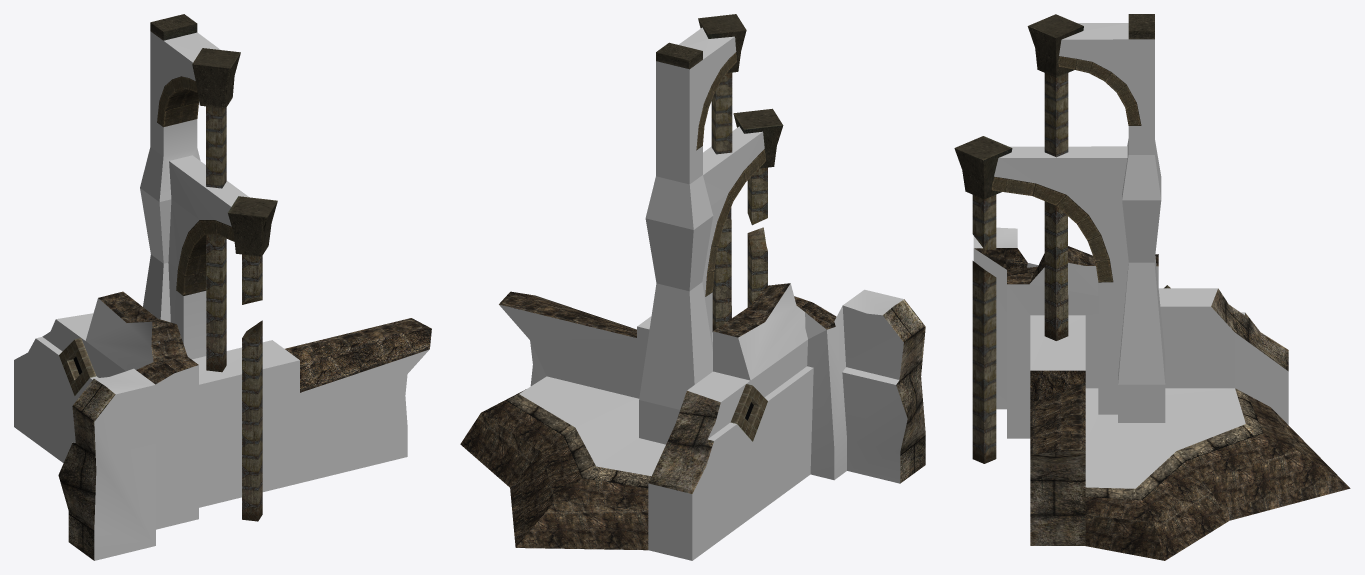
3 views of the same model, side by side, from view 1: azimuth 30°, elevation 25°; view 2: azimuth 150°, elevation 25°; view 3: azimuth 270°, elevation 25° (orthographic).
Parts seen in each view (by area): view 1: Elements_Labirint_01; view 2: Elements_Labirint_01; view 3: Elements_Labirint_01.
Part boxes in pixels (left/top/right/bottom): Elements_Labirint_01: left=14, top=14, right=431, bottom=560; Elements_Labirint_01: left=460, top=14, right=925, bottom=560; Elements_Labirint_01: left=954, top=14, right=1350, bottom=560.
Bounding box in the file's own units: 1138 × 1011 × 1230.
